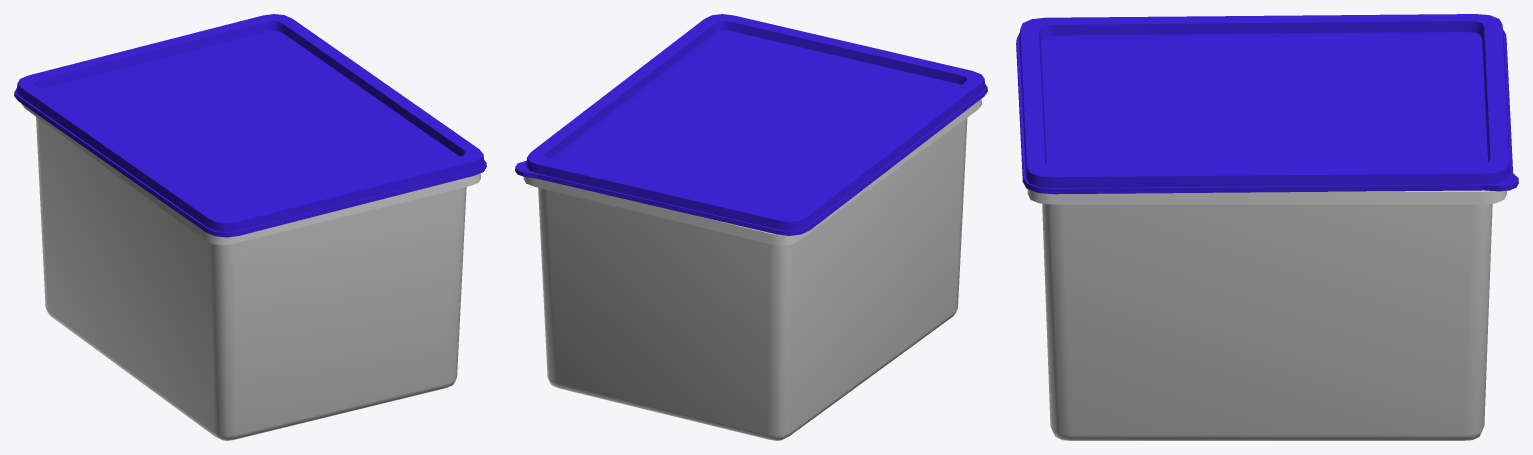
File: Food_container.fbx
3 views of the same model, side by side, from view 1: azimuth 30°, elevation 25°; view 2: azimuth 150°, elevation 25°; view 3: azimuth 270°, elevation 25° (orthographic). The views are drawn at different scales.
Visible parts, largest first — view 1: FoodContainer4.001, FoodContainer4Top.001; view 2: FoodContainer4.001, FoodContainer4Top.001; view 3: FoodContainer4.001, FoodContainer4Top.001.
Boxes of the visible parts, x1,y1,x2,y2 form: FoodContainer4.001: [21, 103, 480, 440]; FoodContainer4Top.001: [14, 14, 486, 237]; FoodContainer4.001: [523, 99, 981, 440]; FoodContainer4Top.001: [515, 14, 987, 235]; FoodContainer4.001: [1027, 189, 1506, 440]; FoodContainer4Top.001: [1016, 14, 1518, 194].
Size of the model in its own units: 41.41 by 32.19 by 52.77.
